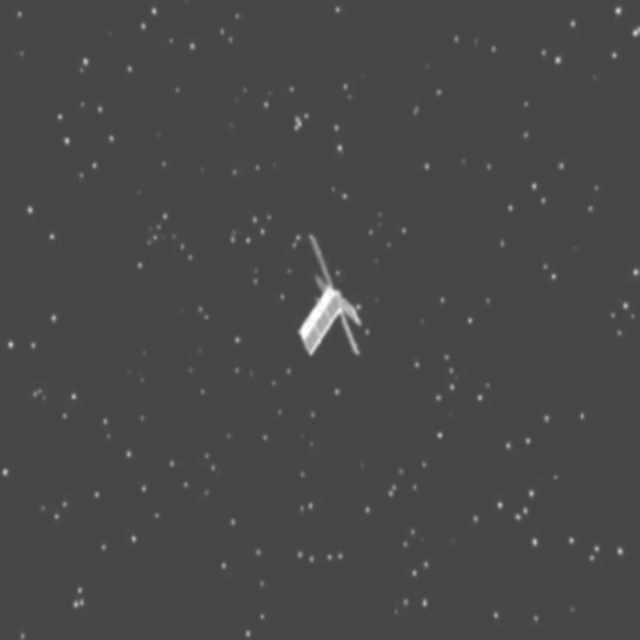medium_debris: (279, 219, 373, 376)
